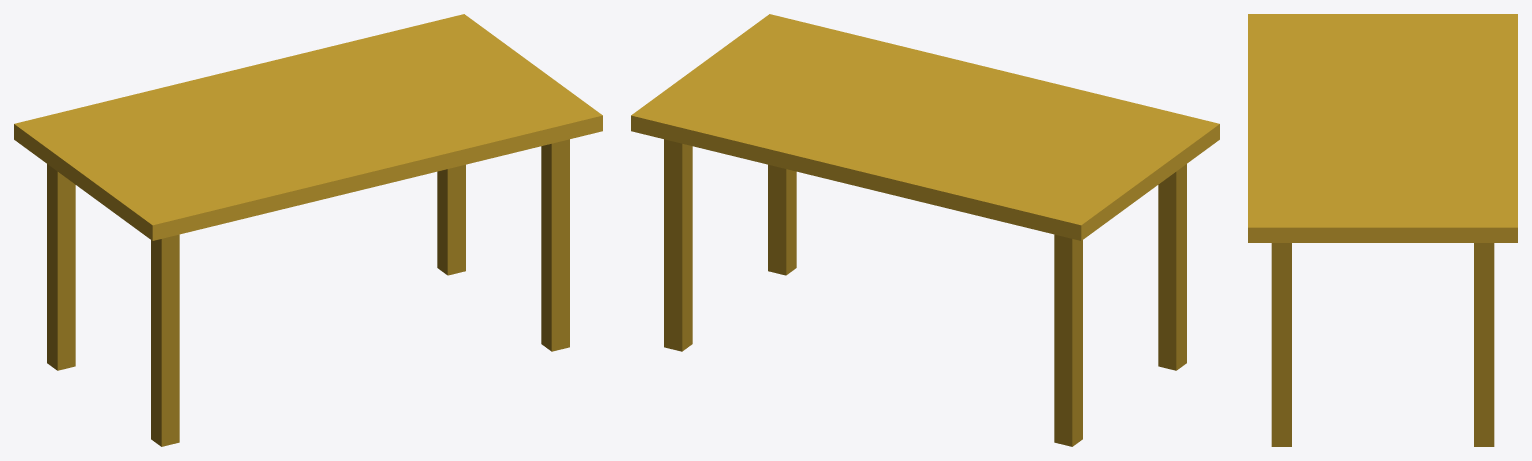
The model's file is mesa-externa.glb.
3 views of the same model, side by side, from view 1: azimuth 30°, elevation 25°; view 2: azimuth 150°, elevation 25°; view 3: azimuth 270°, elevation 25° (orthographic). The views are drawn at different scales.
Bounding box in the file's own units: 1.5 × 0.75 × 0.8.
